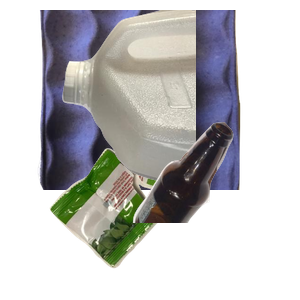glass: (130, 120, 300, 300)
paper: (35, 10, 268, 190)
plastic: (60, 10, 300, 190)
trash: (47, 146, 220, 300)
